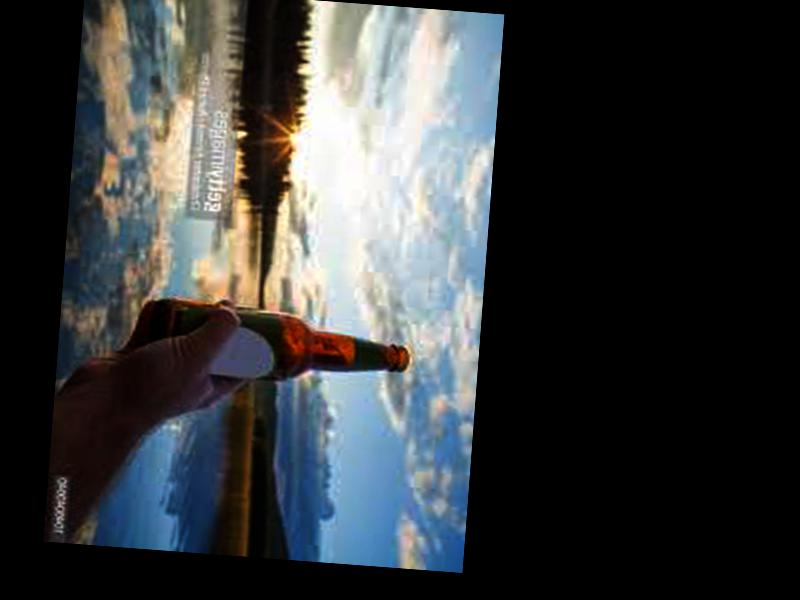Beer: (150, 294, 414, 392)
